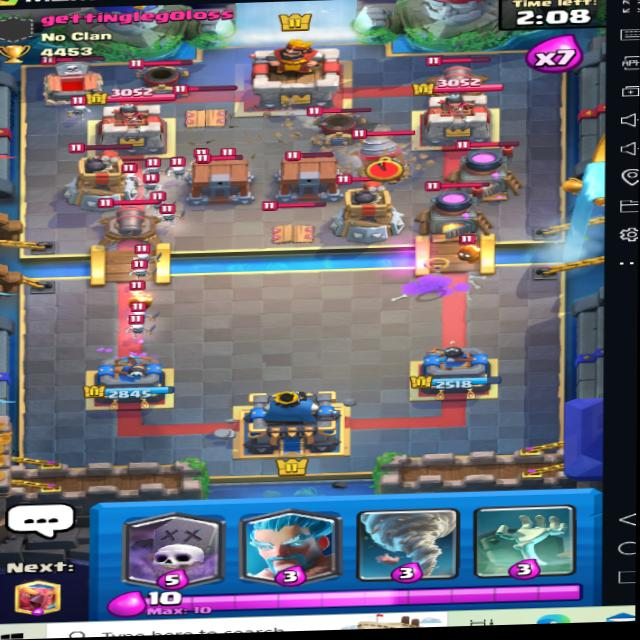bomb-tower: (333, 168, 414, 243), (65, 137, 140, 214)
cannon: (421, 52, 497, 99), (93, 197, 158, 245)
fire-spirit: (442, 237, 482, 264), (122, 283, 159, 308)
furnace: (446, 134, 533, 207), (418, 175, 499, 242)
goblin-cage: (275, 146, 345, 205), (186, 150, 262, 200)
goblin-drill: (340, 126, 417, 185)
mortar: (129, 46, 200, 97), (305, 102, 370, 149)
skeleton: (122, 307, 156, 341), (163, 153, 195, 182), (128, 237, 161, 265), (121, 296, 152, 325), (138, 170, 171, 194), (155, 202, 186, 227), (124, 262, 156, 286), (141, 191, 172, 214)
tesla-closed: (165, 79, 242, 132), (259, 197, 328, 246)
tombstone: (32, 43, 118, 104)
